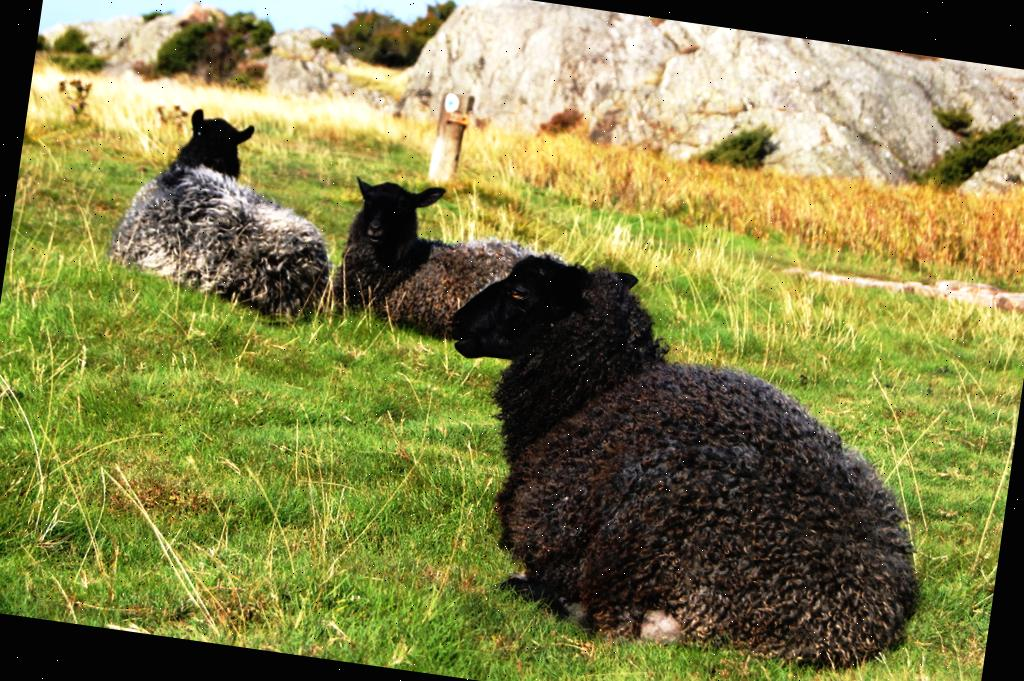Sheep: (410, 239, 958, 679), (102, 98, 350, 326), (326, 172, 574, 354)
